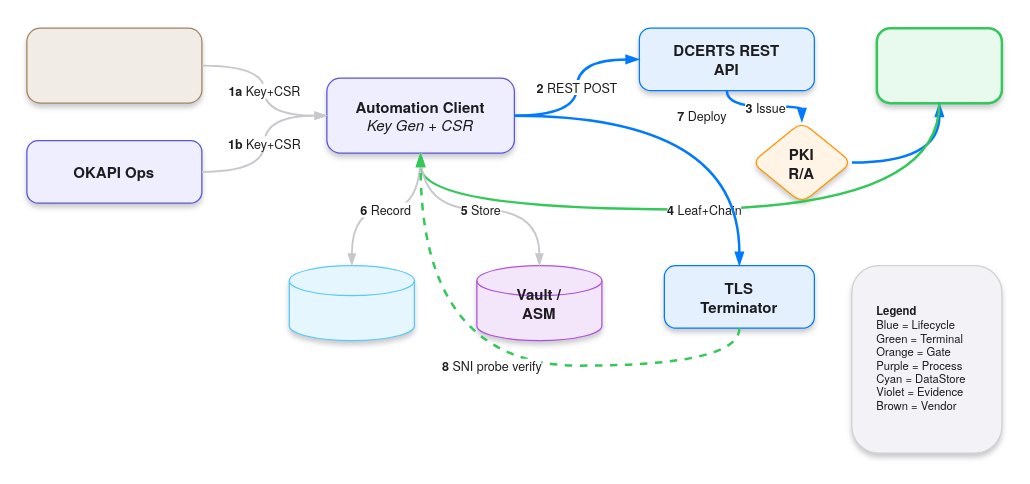
This 1030x484 diagram has some shape labels left out. Each missing label, with the centre of its shape:
"Cequence SaaS Ops Vendor-managed" goes at (x=114, y=67).
"Enterprise CA DigiCert" goes at (x=939, y=66).
"Inventory" goes at (x=351, y=304).
